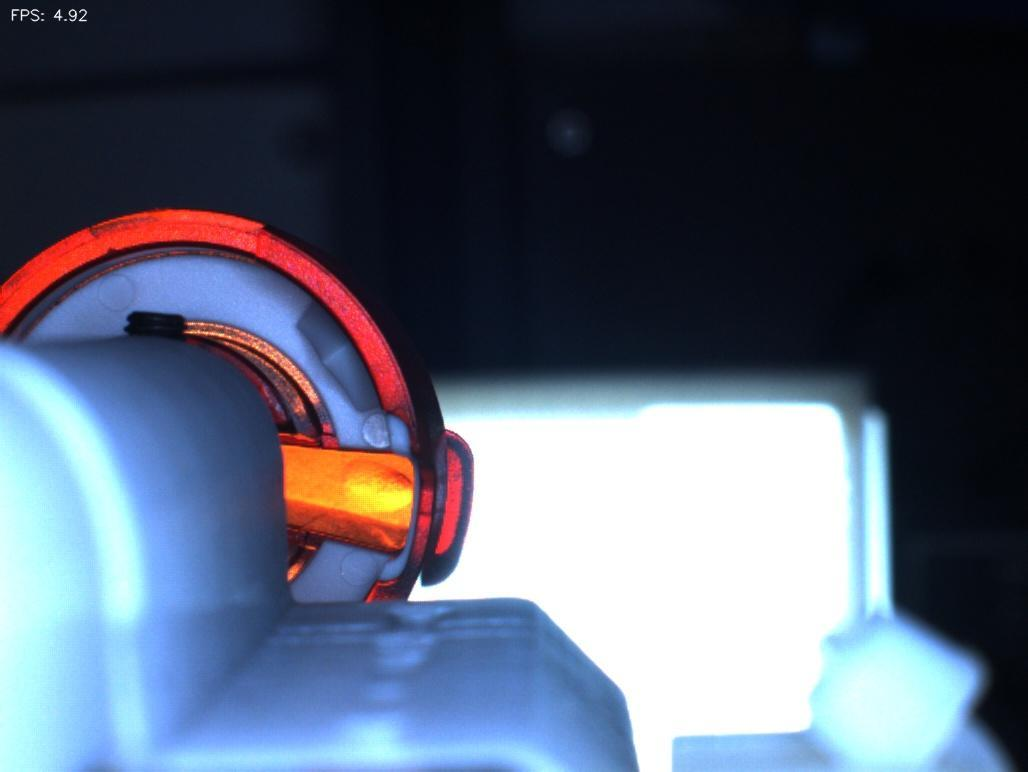Retassure: (314, 454, 419, 530)
